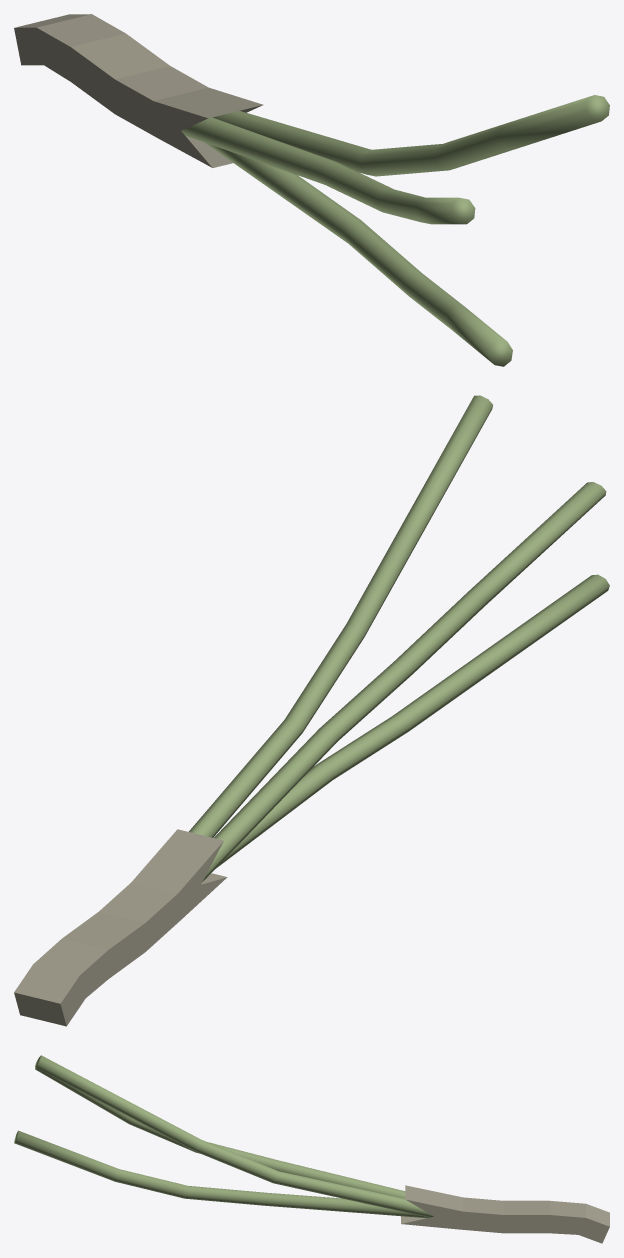
Rendered from Cables_1.fbx.
The picture shows the model from 3 angles, top to bottom: view 1: azimuth 30°, elevation 25°; view 2: azimuth 150°, elevation 25°; view 3: azimuth 270°, elevation 25°; orthographic projection. The views are drawn at different scales.
Visible parts, largest first — view 1: Cylinder.001; view 2: Cylinder.001; view 3: Cylinder.001.
Boxes of the visible parts, x1,y1,x2,y2 form: Cylinder.001: [14, 14, 609, 366]; Cylinder.001: [14, 395, 609, 1026]; Cylinder.001: [14, 1055, 609, 1243].
Bounding box in the file's own units: 8.78 × 18.26 × 53.5.
